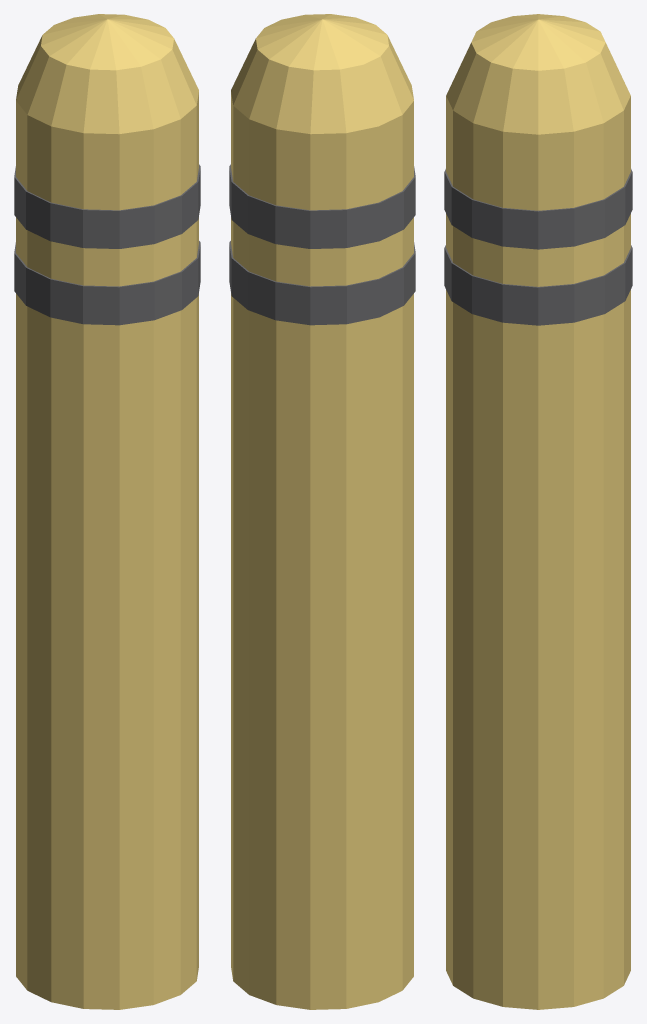
File: bollard_y.glb
The picture shows the model from 3 angles, left to right: view 1: azimuth 30°, elevation 25°; view 2: azimuth 150°, elevation 25°; view 3: azimuth 270°, elevation 25°; orthographic projection.
Visible parts, largest first — view 1: bollard_y_paint_y, bollard_y_dark; view 2: bollard_y_paint_y, bollard_y_dark; view 3: bollard_y_paint_y, bollard_y_dark.
Part boxes in pixels (x1,y1,x2,y2): bollard_y_paint_y: (16, 14, 198, 1009); bollard_y_dark: (14, 164, 200, 325); bollard_y_paint_y: (231, 14, 413, 1009); bollard_y_dark: (229, 164, 415, 325); bollard_y_paint_y: (446, 14, 630, 1009); bollard_y_dark: (444, 169, 632, 325).
Size of the model in its own units: 0.224 by 1.25 by 0.224.
